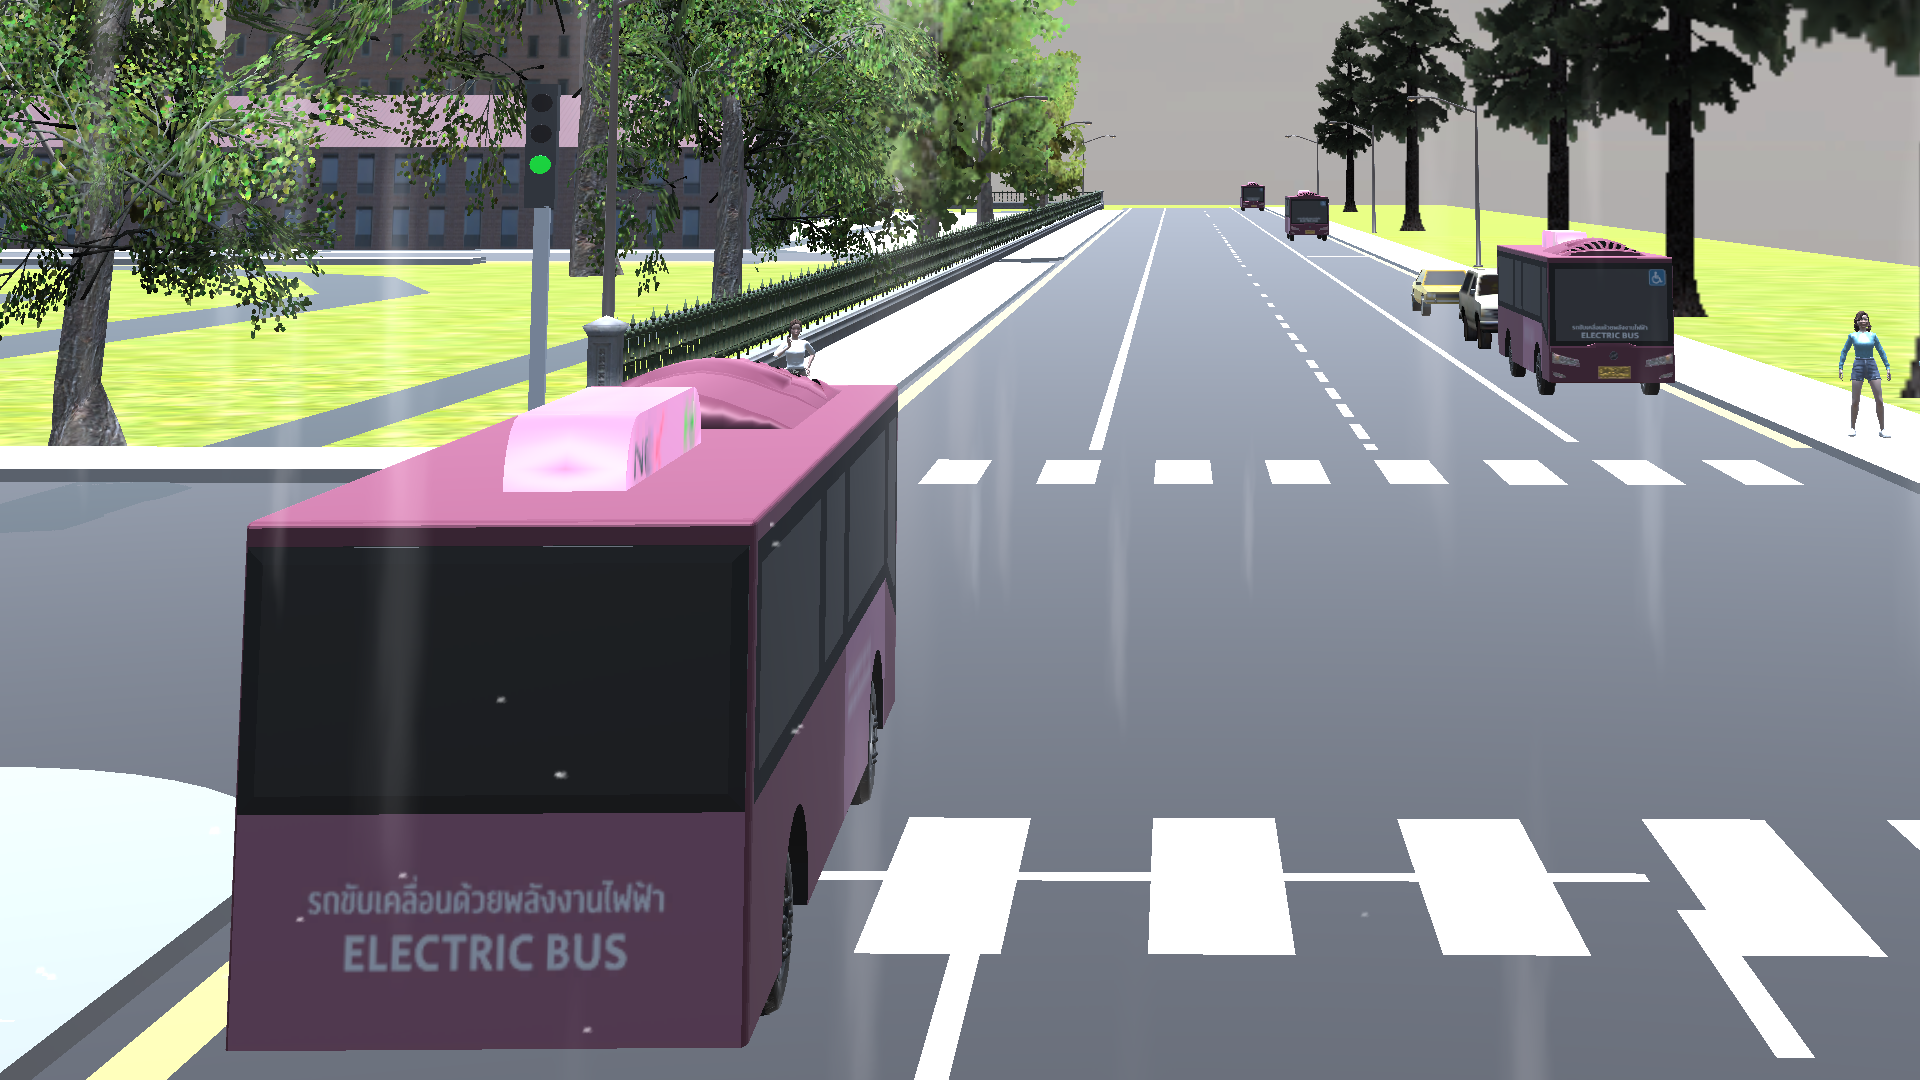pedestrian: (1825, 296, 1910, 453), (769, 311, 822, 382)
